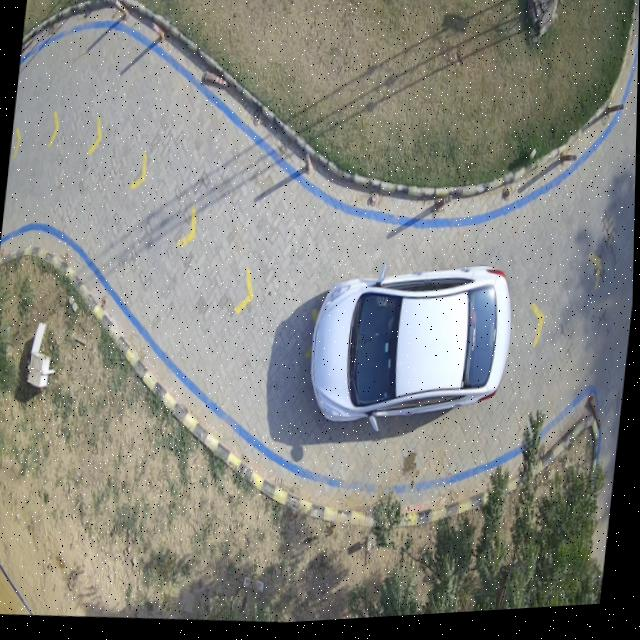car: (308, 274, 511, 432)
